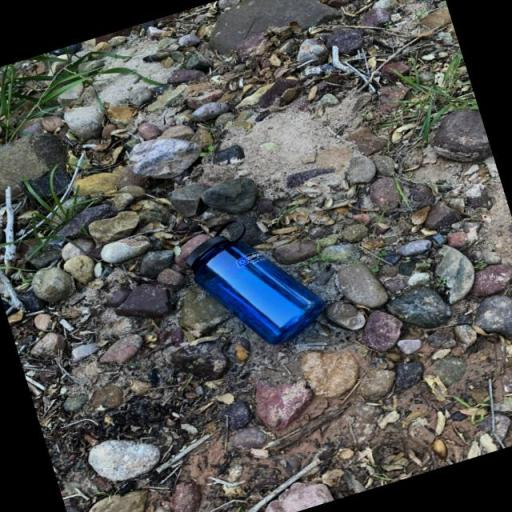bottle: (178, 201, 332, 362)
